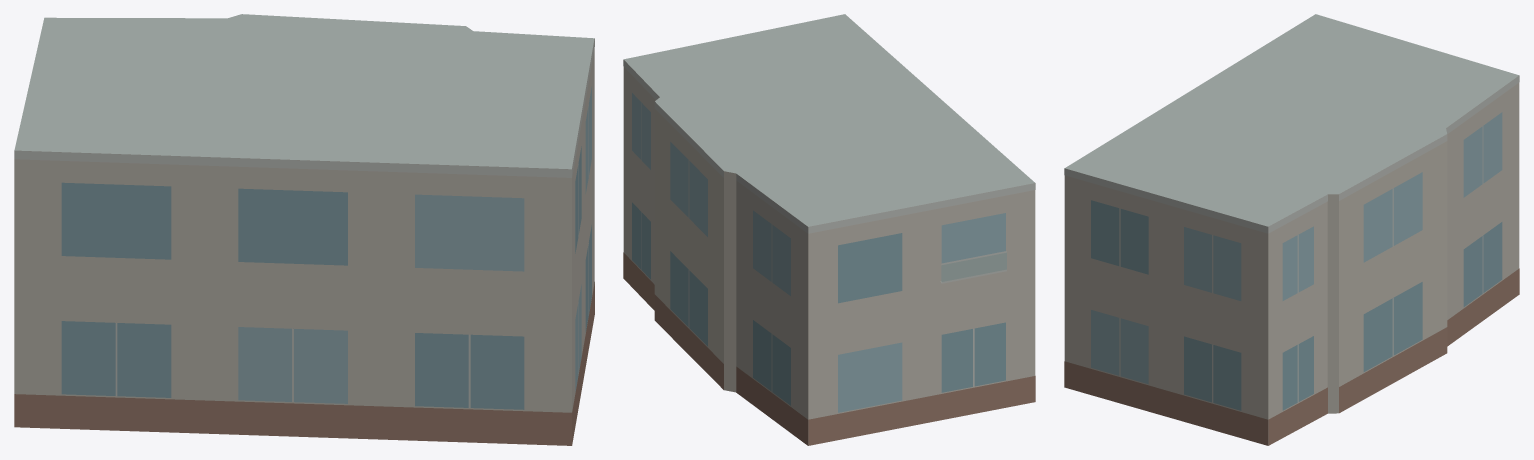
File: survey-upis-32626931.glb
The picture shows the model from 3 angles, left to right: view 1: azimuth 30°, elevation 25°; view 2: azimuth 150°, elevation 25°; view 3: azimuth 270°, elevation 25°; orthographic projection. The views are drawn at different scales.
Visible parts, largest first — view 1: survey-upis-32626931.tmp; view 2: survey-upis-32626931.tmp; view 3: survey-upis-32626931.tmp.
Boxes of the visible parts, x1,y1,x2,y2 form: survey-upis-32626931.tmp: [14, 14, 594, 445]; survey-upis-32626931.tmp: [623, 14, 1035, 445]; survey-upis-32626931.tmp: [1064, 14, 1519, 445].
Size of the model in its own units: 16.04 by 7.7 by 14.5.
